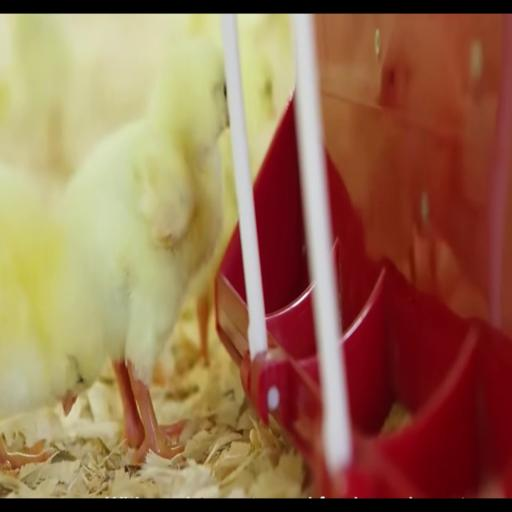chick: (62, 40, 228, 463), (0, 164, 106, 418)
